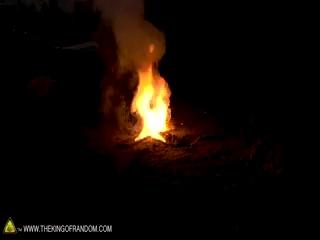Fire: (122, 46, 173, 143)
